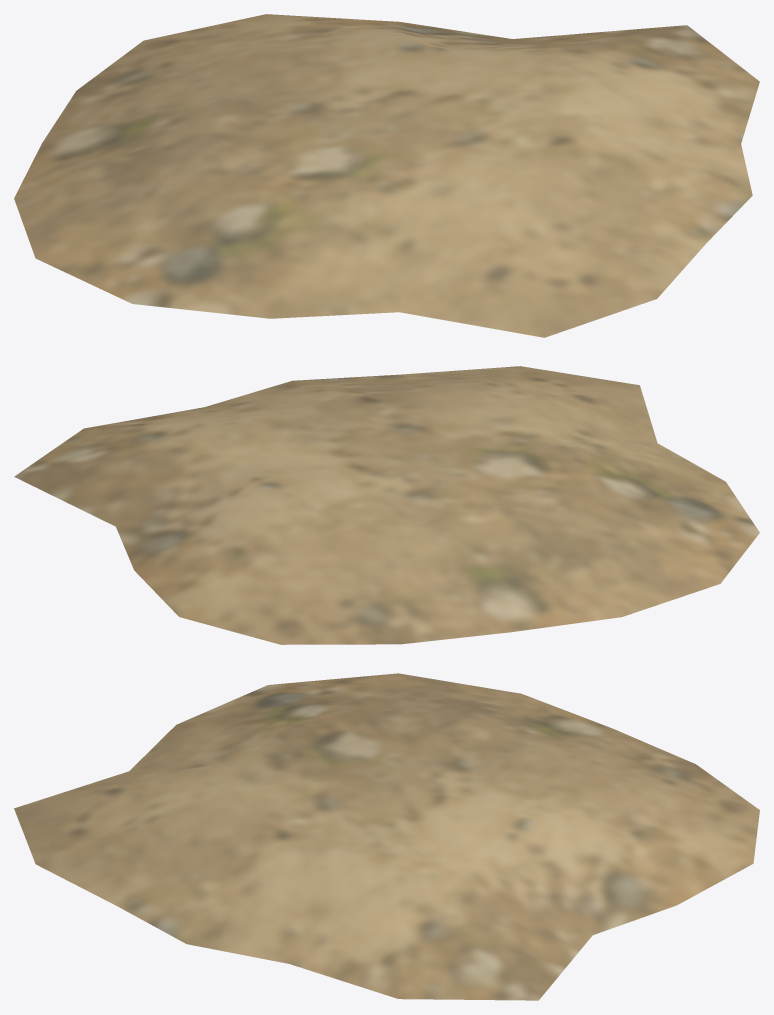
Rendered from Transition_Soil_B.glb.
The picture shows the model from 3 angles, top to bottom: view 1: azimuth 30°, elevation 25°; view 2: azimuth 150°, elevation 25°; view 3: azimuth 270°, elevation 25°; orthographic projection. The views are drawn at different scales.
Visible parts, largest first — view 1: Transition_Soil_B; view 2: Transition_Soil_B; view 3: Transition_Soil_B.
Part boxes in pixels (x1,y1,x2,y2): Transition_Soil_B: (14,14,759,337); Transition_Soil_B: (14,366,759,644); Transition_Soil_B: (14,673,759,1000).
Bounding box in the file's own units: 2.29 × 0.162 × 2.21.
Materials: 1 (1 with a texture image).
